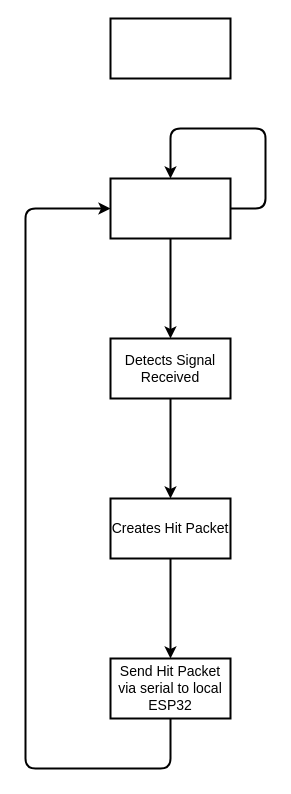
The diagram is 291 pixels wide and 794 high, and some of its shapes have lost their labels. Each missing label, with the centre of its shape:
Idle: point (170, 208)
IR Target: point (170, 48)
